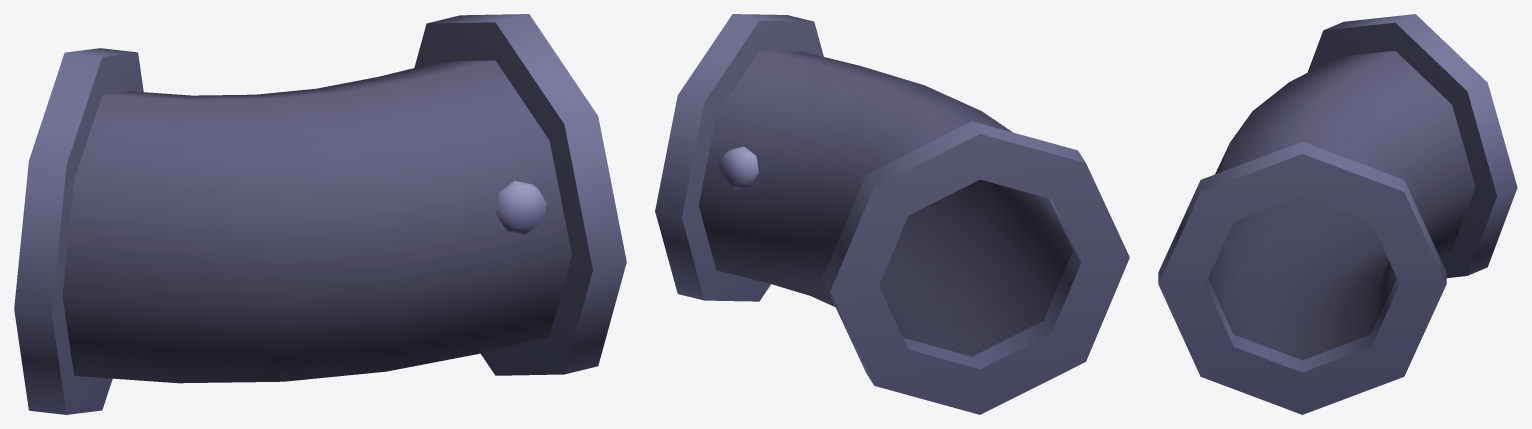
File: pipe-large-curve.glb
The picture shows the model from 3 angles, left to right: view 1: azimuth 30°, elevation 25°; view 2: azimuth 150°, elevation 25°; view 3: azimuth 270°, elevation 25°; orthographic projection. The views are drawn at different scales.
Visible parts, largest first — view 1: pipe-large-curve; view 2: pipe-large-curve; view 3: pipe-large-curve.
Boxes of the visible parts, x1=… form: pipe-large-curve: x1=14, y1=14, x2=626, y2=414; pipe-large-curve: x1=655, y1=14, x2=1129, y2=414; pipe-large-curve: x1=1158, y1=14, x2=1517, y2=414.
Size of the model in its own units: 1.5 by 1 by 1.25.
1 material, 1 textured.
